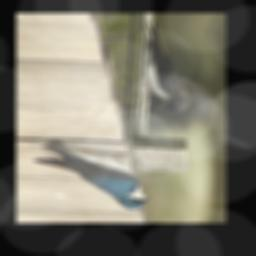Swallow: (33, 142, 152, 210)
